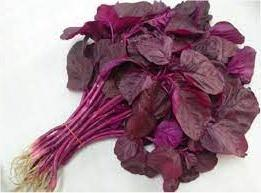amaranth: (8, 0, 259, 192)
